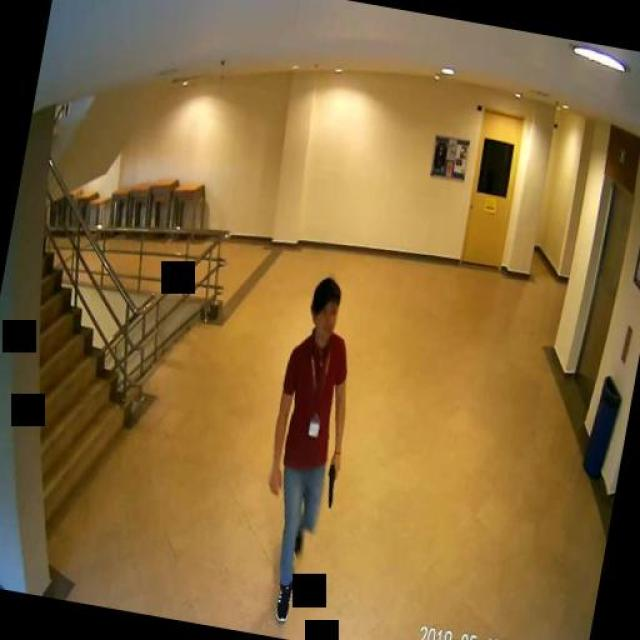gun: (320, 457, 339, 508)
